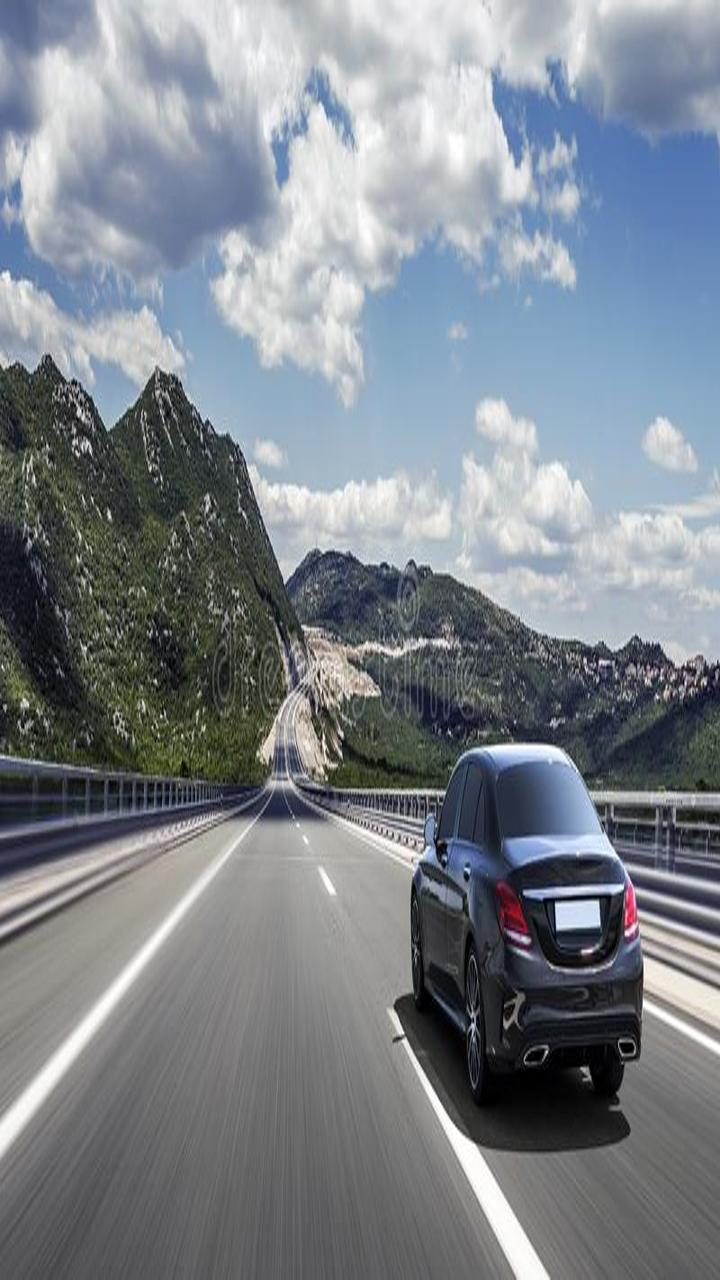vehicle: (386, 736, 671, 1104)
